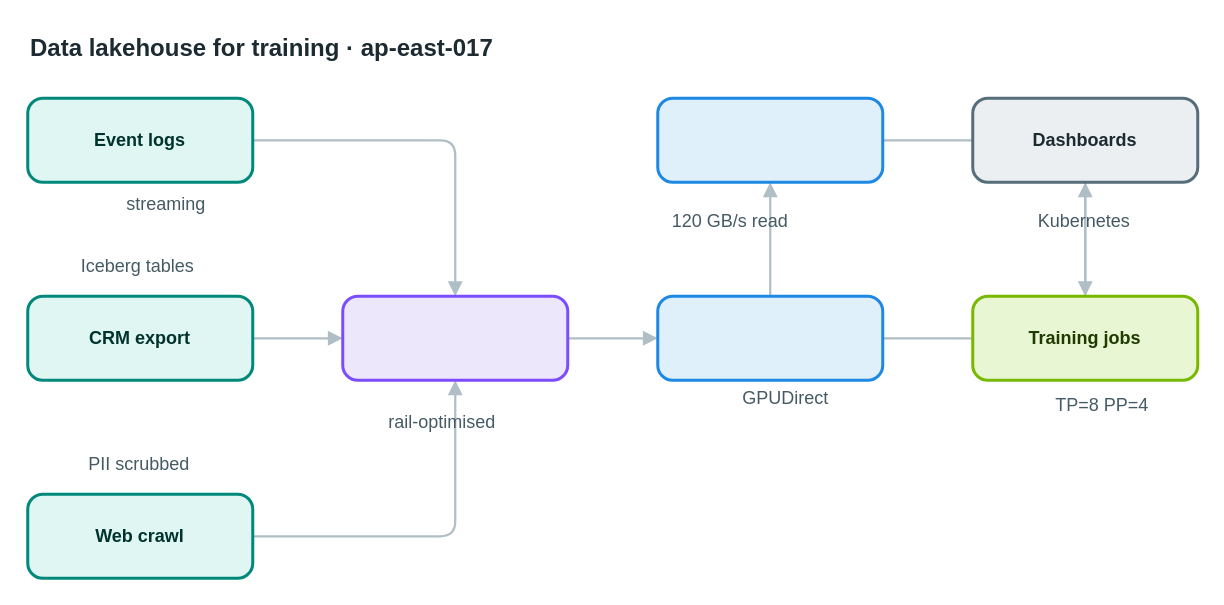
Some shapes in this 1224 by 605 pixel diagram are drawn without their labels. Each missing label, with the centre of its shape:
Feature store: (x=770, y=139)
Lakehouse: (x=770, y=337)
Stream bus: (x=454, y=337)
